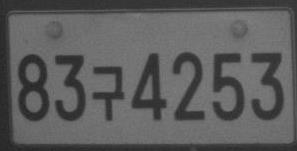2: (172, 50, 205, 121)
3: (250, 51, 285, 121), (54, 53, 86, 121)
4: (130, 52, 166, 119)
5: (211, 52, 245, 121)
8: (16, 52, 50, 122)
구: (91, 64, 124, 121)
